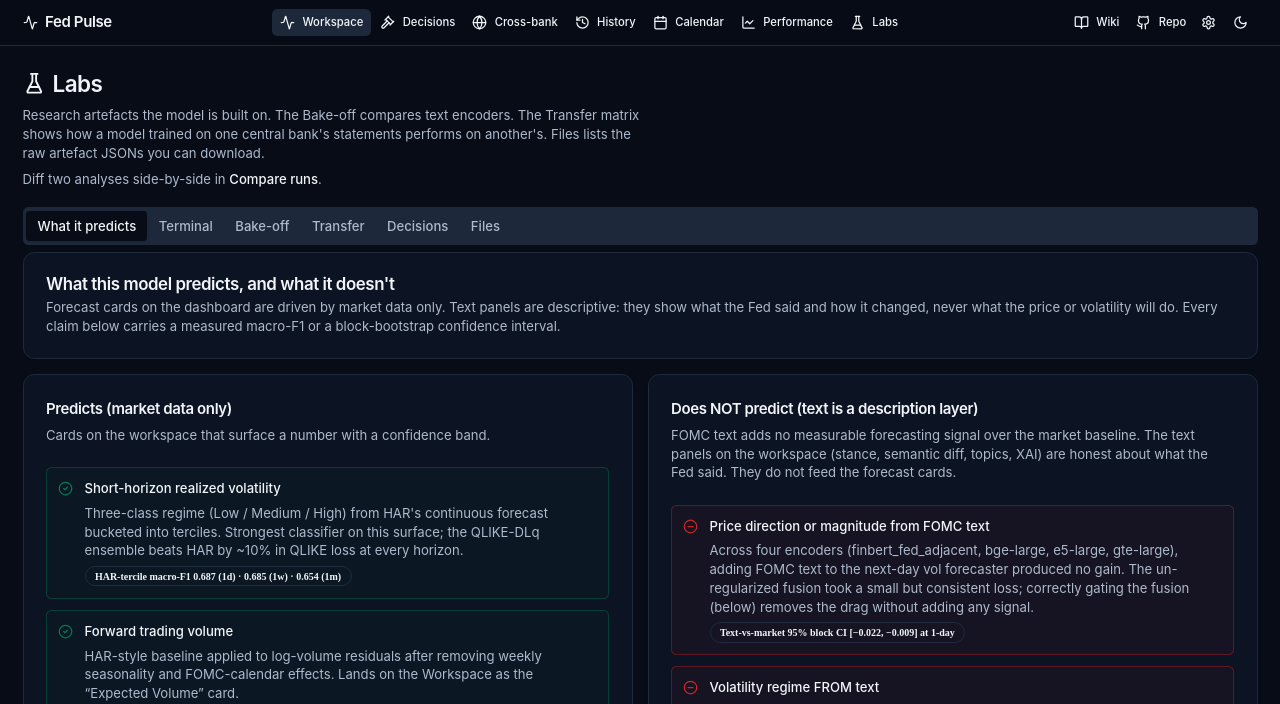
it: ResearchPage › renders heatmap cells with the numeric metric and bank labels
Click the tab "Transfer" at (338, 226), box [301,211,376,241]
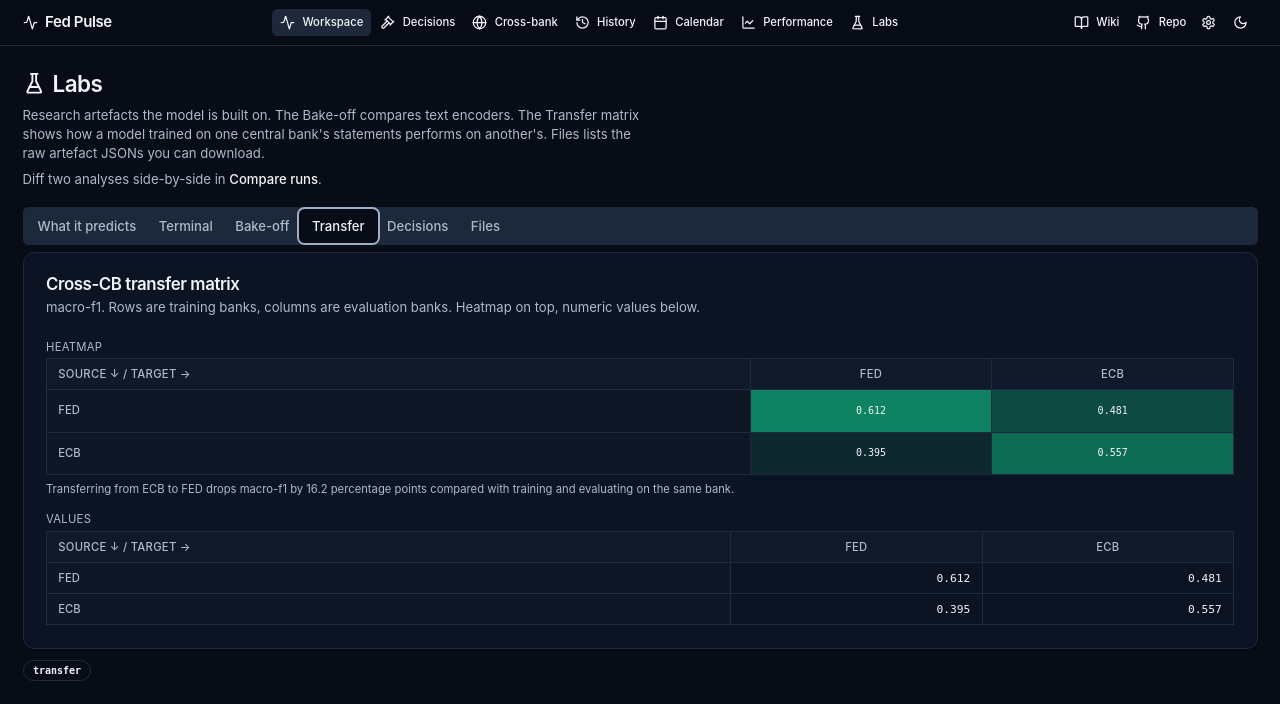
expect the 1st cell titled "Trained on FED, evaluated on ECB" is shown: met, box [992,390,1234,432]
expect the 1st cell titled "Trained on FED, evaluated on ECB" reads "0.481": met, box [1098,404,1128,416]
expect the 1st column heading "FED" is shown: met, box [750,359,992,390]
